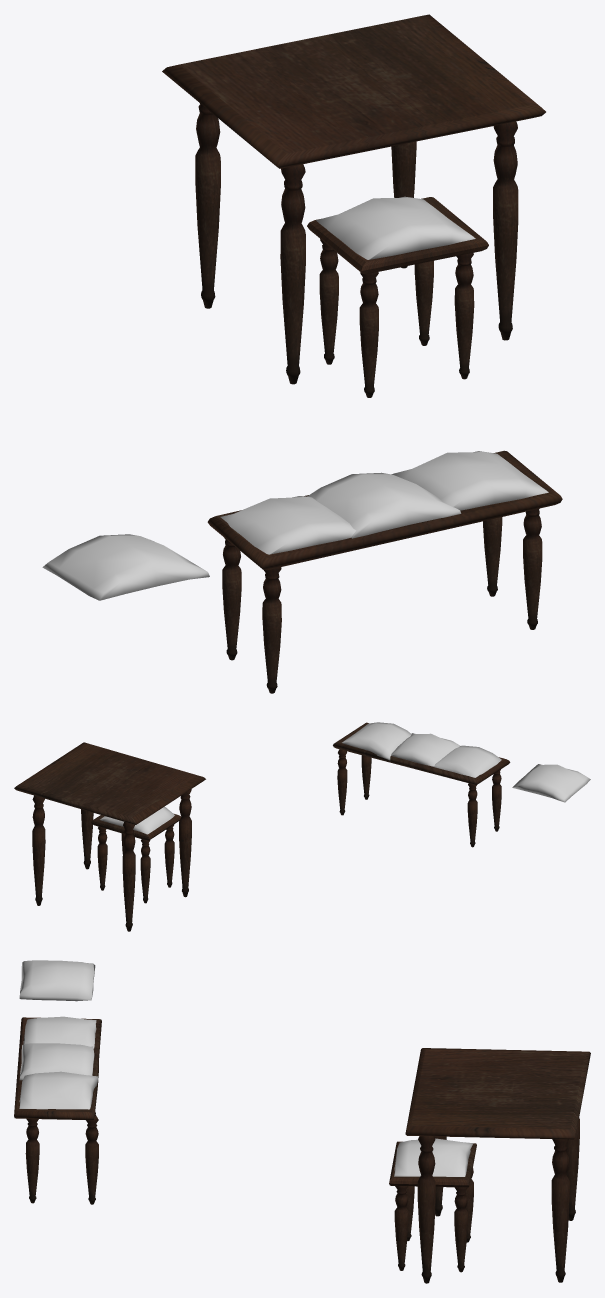
File: Fancy_furniture.FBX
The picture shows the model from 3 angles, top to bottom: view 1: azimuth 30°, elevation 25°; view 2: azimuth 150°, elevation 25°; view 3: azimuth 270°, elevation 25°; orthographic projection. The views are drawn at different scales.
Visible parts, largest first — view 1: Table_Fancy, Object002, Bench_Fancy, Chair_Fancy, pillow004, Object001; view 2: Table_Fancy, Object002, Bench_Fancy, Chair_Fancy, pillow004, Object001; view 3: Table_Fancy, Object002, Bench_Fancy, Chair_Fancy, pillow004, Object001.
Boxes of the visible parts, left/top/right/bottom form: Table_Fancy: left=162, top=14, right=545, bottom=384; Object002: left=220, top=451, right=548, bottom=554; Bench_Fancy: left=207, top=450, right=562, bottom=693; Chair_Fancy: left=307, top=197, right=488, bottom=397; pillow004: left=42, top=534, right=209, bottom=600; Object001: left=316, top=196, right=475, bottom=259; Table_Fancy: left=14, top=742, right=205, bottom=931; Object002: left=342, top=722, right=501, bottom=777; Bench_Fancy: left=333, top=722, right=510, bottom=847; Chair_Fancy: left=91, top=814, right=180, bottom=903; pillow004: left=512, top=764, right=590, bottom=802; Object001: left=100, top=806, right=174, bottom=834; Table_Fancy: left=405, top=1048, right=590, bottom=1283; Object002: left=19, top=1016, right=98, bottom=1109; Bench_Fancy: left=14, top=1017, right=101, bottom=1204; Chair_Fancy: left=389, top=1141, right=476, bottom=1272; pillow004: left=19, top=960, right=95, bottom=1001; Object001: left=394, top=1138, right=473, bottom=1176.
Bounding box in the file's own units: 758 × 754 × 243.
